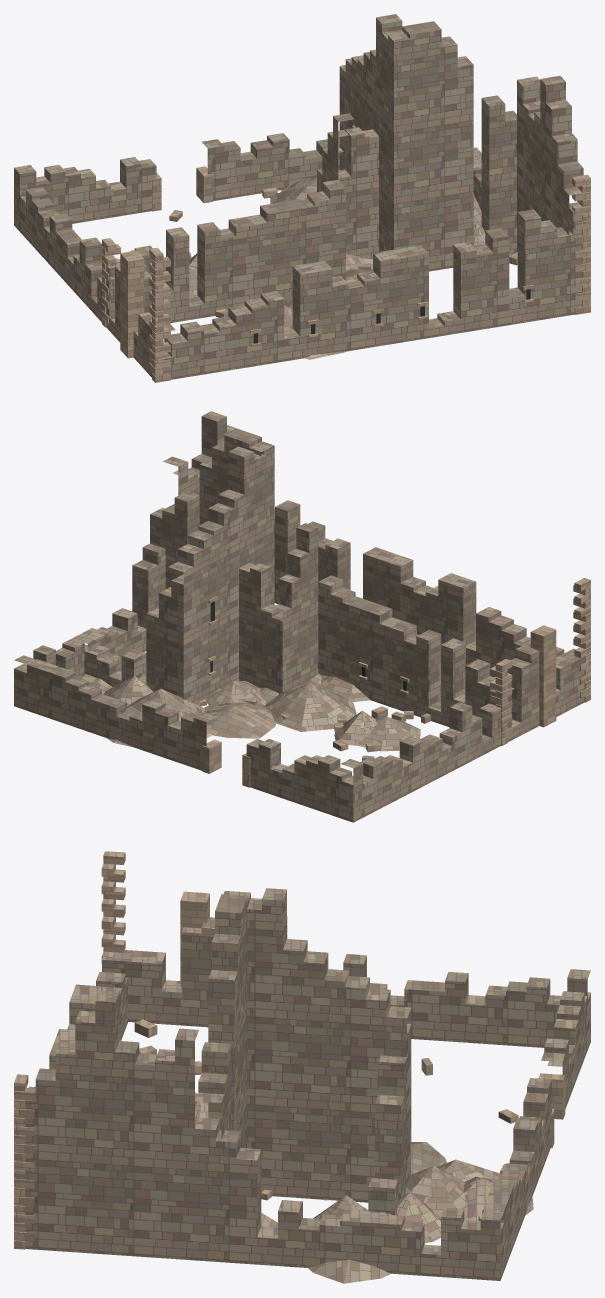
The picture shows the model from 3 angles, top to bottom: view 1: azimuth 30°, elevation 25°; view 2: azimuth 150°, elevation 25°; view 3: azimuth 270°, elevation 25°; orthographic projection. The views are drawn at different scales.
Visible parts, largest first — view 1: ruin_wall, ruin_dressed; view 2: ruin_wall, ruin_dressed; view 3: ruin_wall, ruin_dressed.
Part boxes in pixels (x1,y1,x2,y2): ruin_wall: [14, 14, 588, 379]; ruin_dressed: [102, 125, 590, 382]; ruin_wall: [14, 411, 585, 822]; ruin_dressed: [198, 578, 590, 787]; ruin_wall: [16, 888, 590, 1283]; ruin_dressed: [14, 851, 565, 1249].
Bounding box in the file's own units: 26.91 × 13.5 × 23.83.
3 materials, 2 textured.
